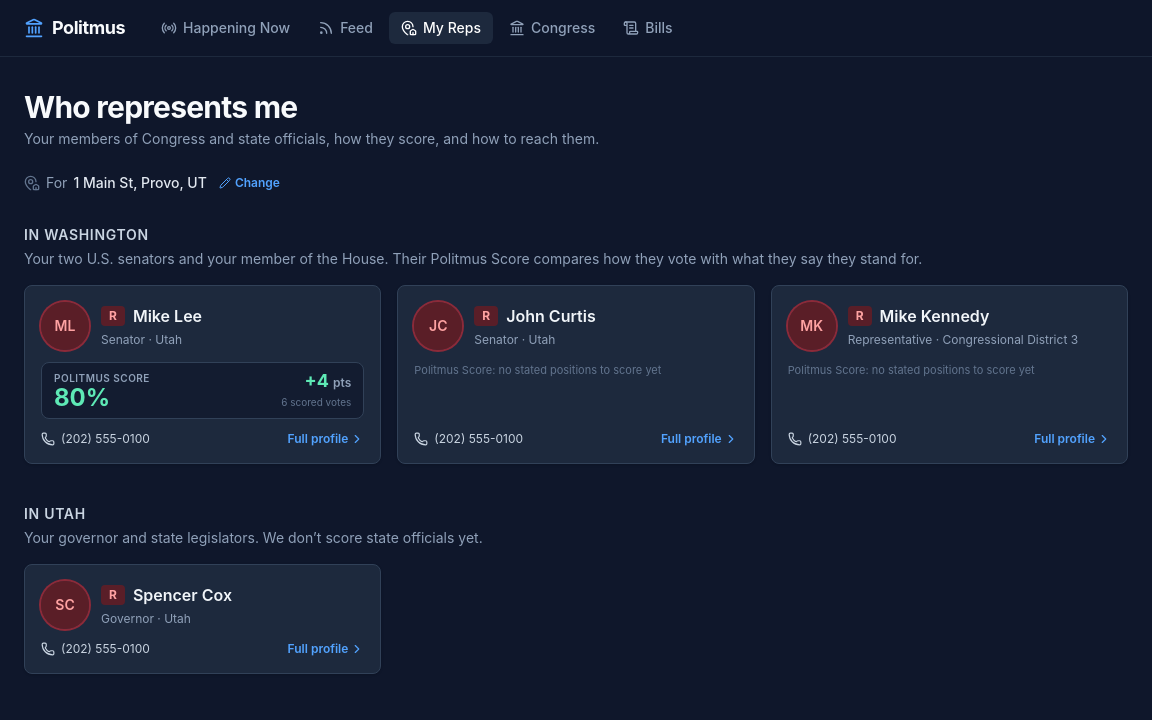
it: My Reps › shares one lookup with Happening Now
Check: the text "Mike Lee" is shown, box [133,304,202,328]
Click the link "Happening Now".
click(226, 28)  # box [161,19,290,36]
(page scrolled)
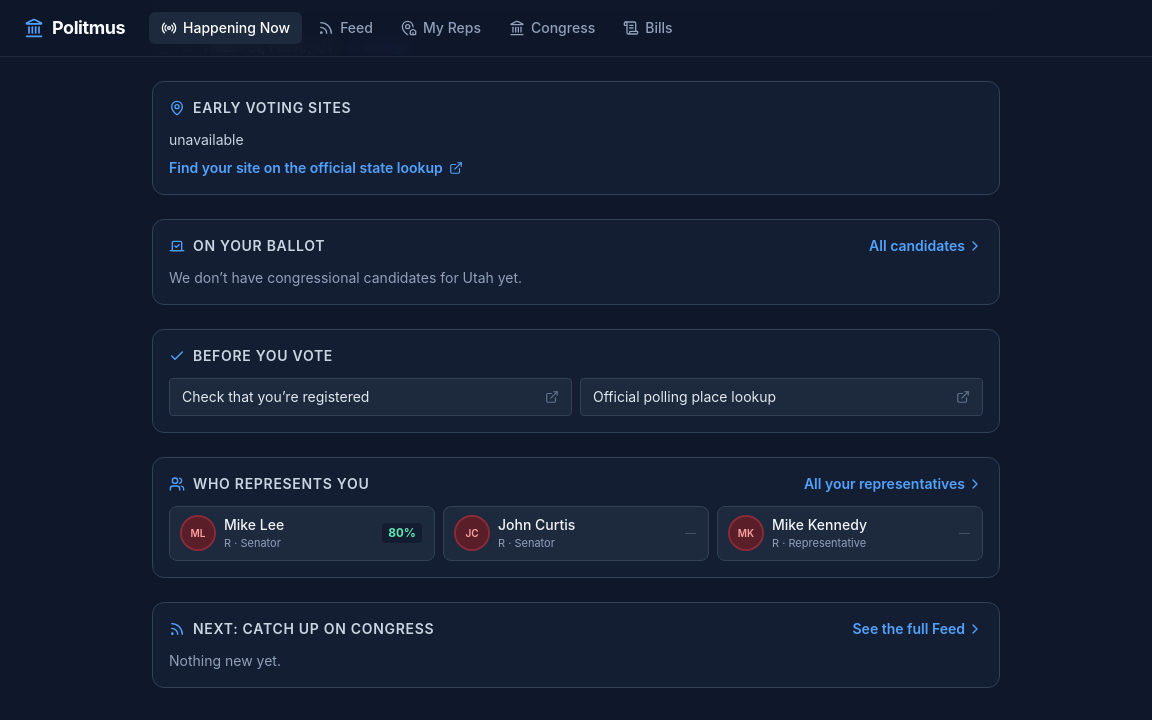
Check: the heading "Who represents you" is shown, box [169,474,369,494]
